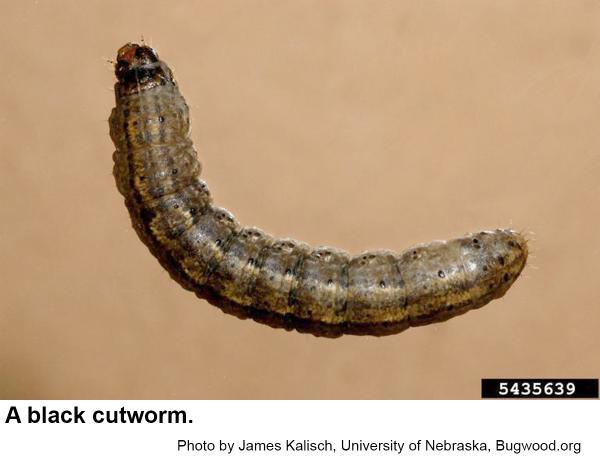caterpillars: (52, 0, 591, 377)
